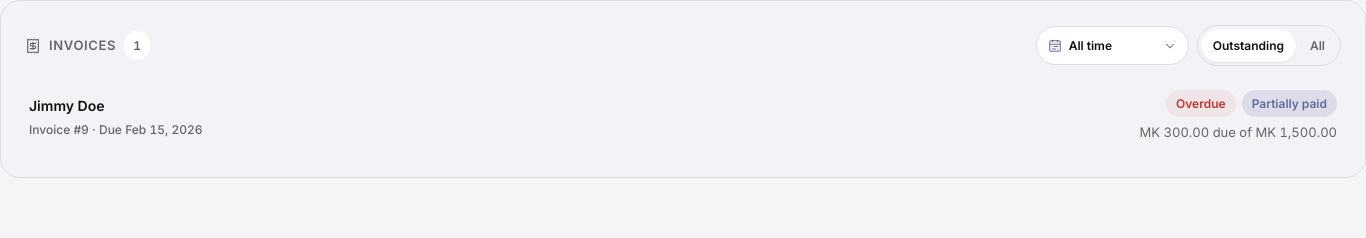
it: InvoicesListPage issue-date filter › This month sends local-midnight bounds and summarises the window
Expected: the text "Jimmy Doe" is shown, [29,97,104,114]
Select "This month" in the dropdown named "Issued" at [1112, 46], box [1036,26,1189,65]
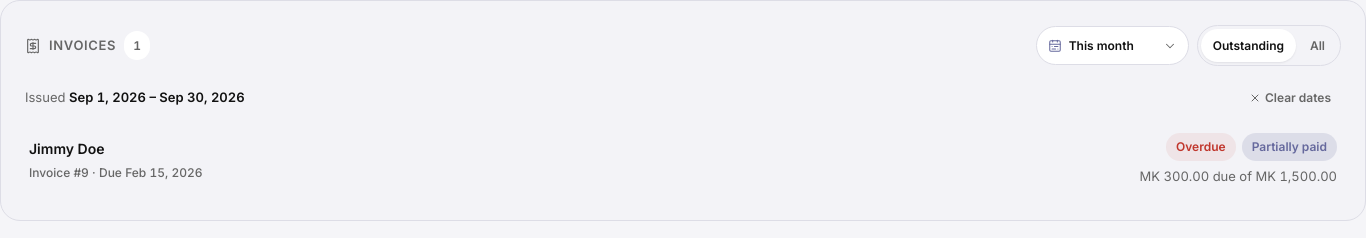
Now the text "Sep 1, 2026 – Sep 30, 2026" is shown, box [69,89,245,105]
